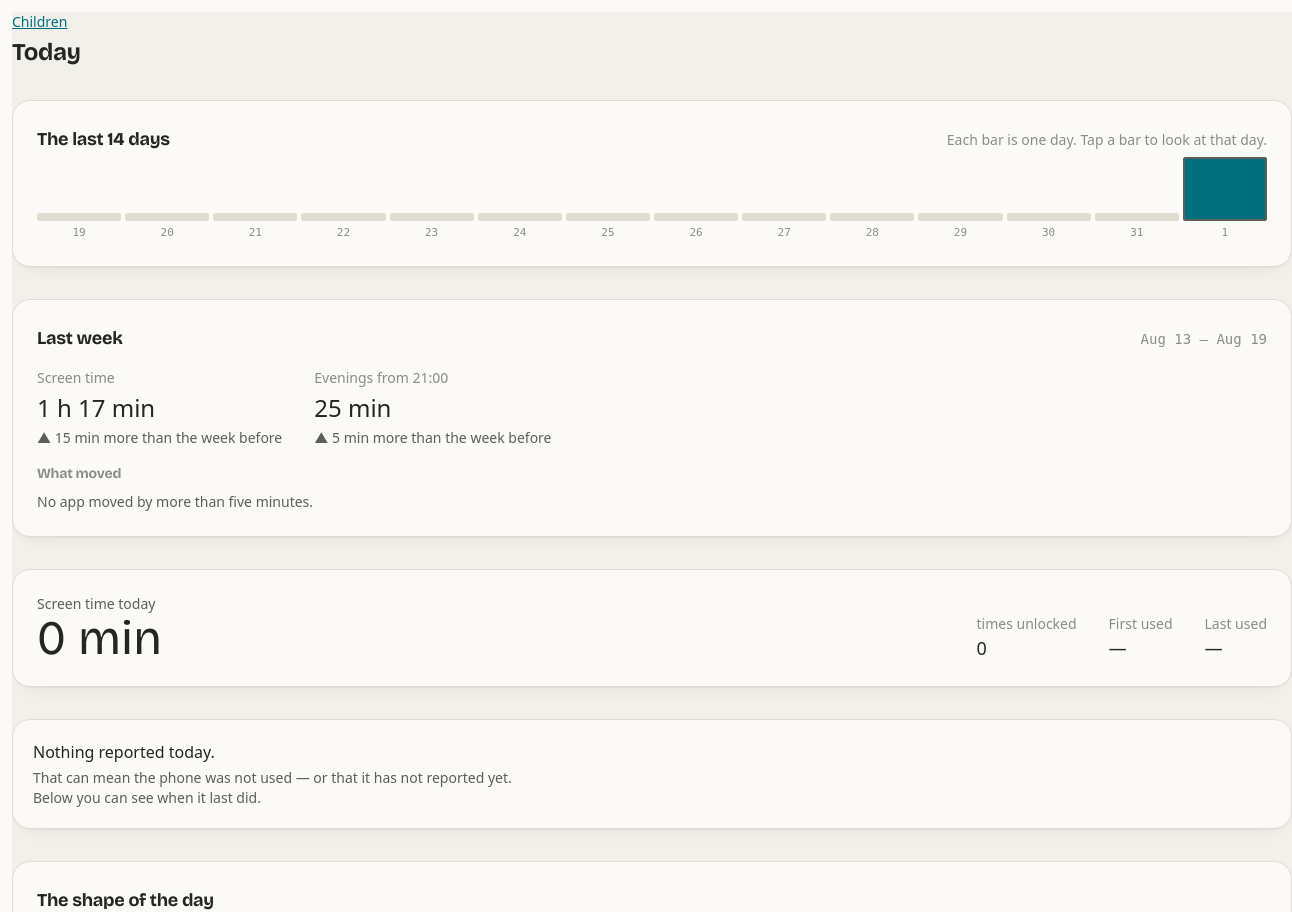
ChildDetail › names the day, not "today", when an empty past day is selected
Expected: the text "Nothing reported today." is shown, [33,740,215,762]
Click the button "19".
click(79, 227)  # box [37,213,121,242]
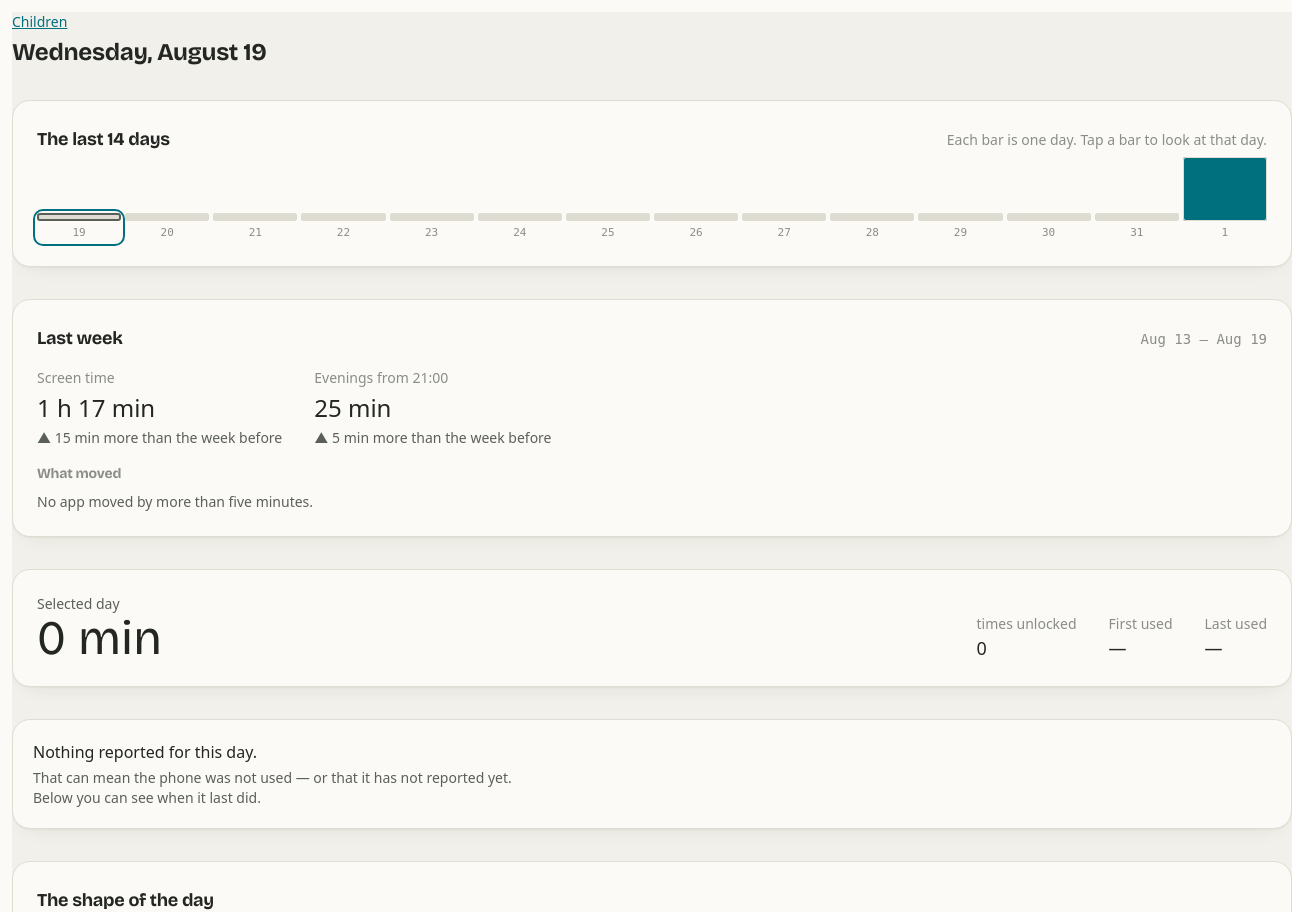
Expected: the text "Nothing reported for this day." is shown, [33,740,257,762]
Expected: the text "Nothing reported today." is gone
